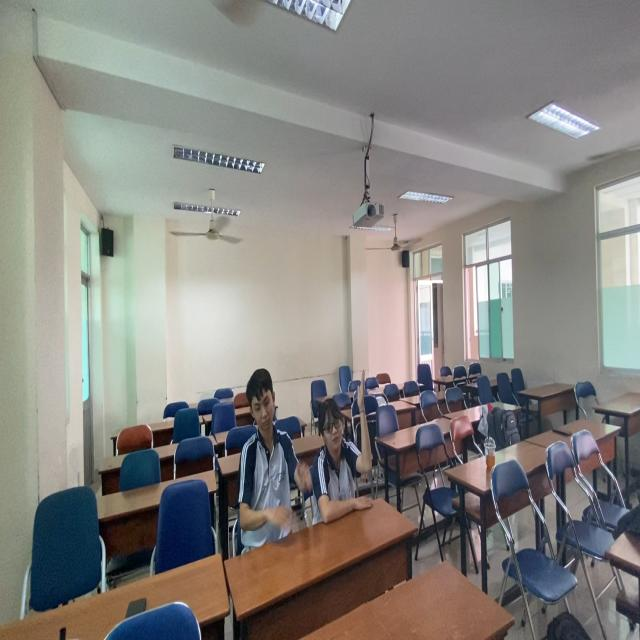raise_hand: (309, 365, 380, 525)
